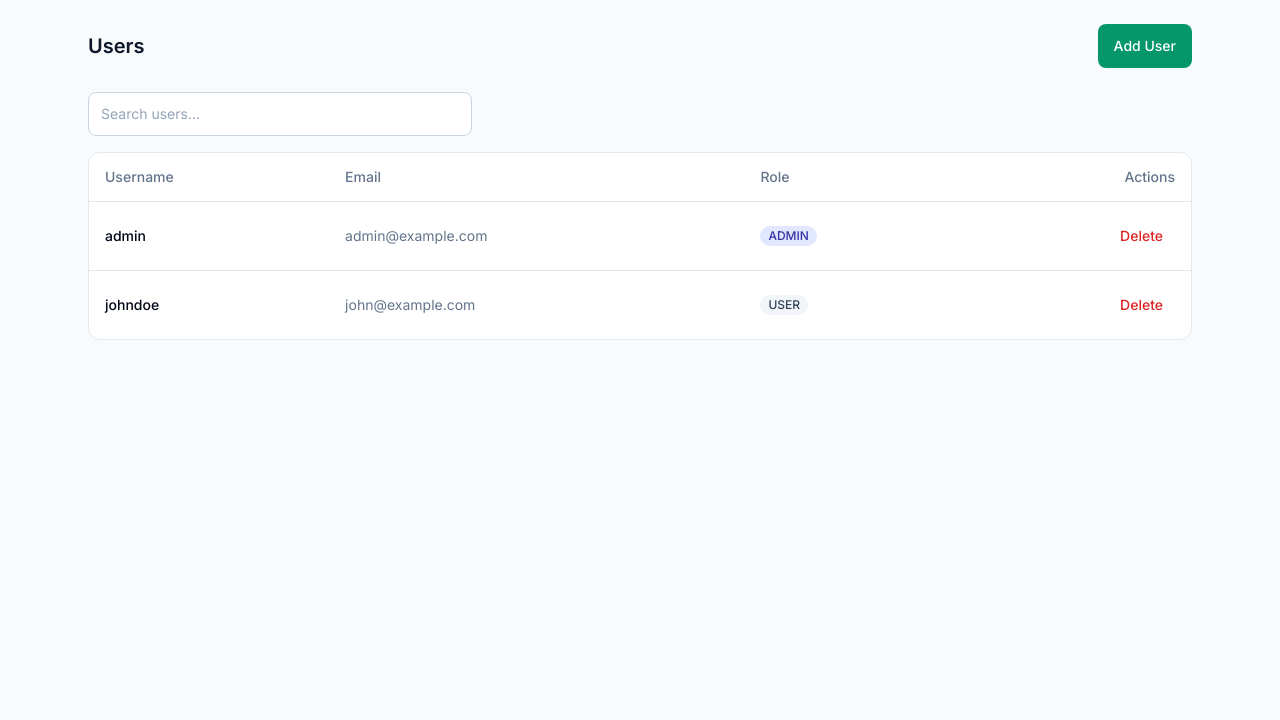
Test: UsersPage › cancels delete dialog
Click the button "Delete" in the row of "admin@example.com".
click(1142, 236)  # box [1108,218,1175,254]
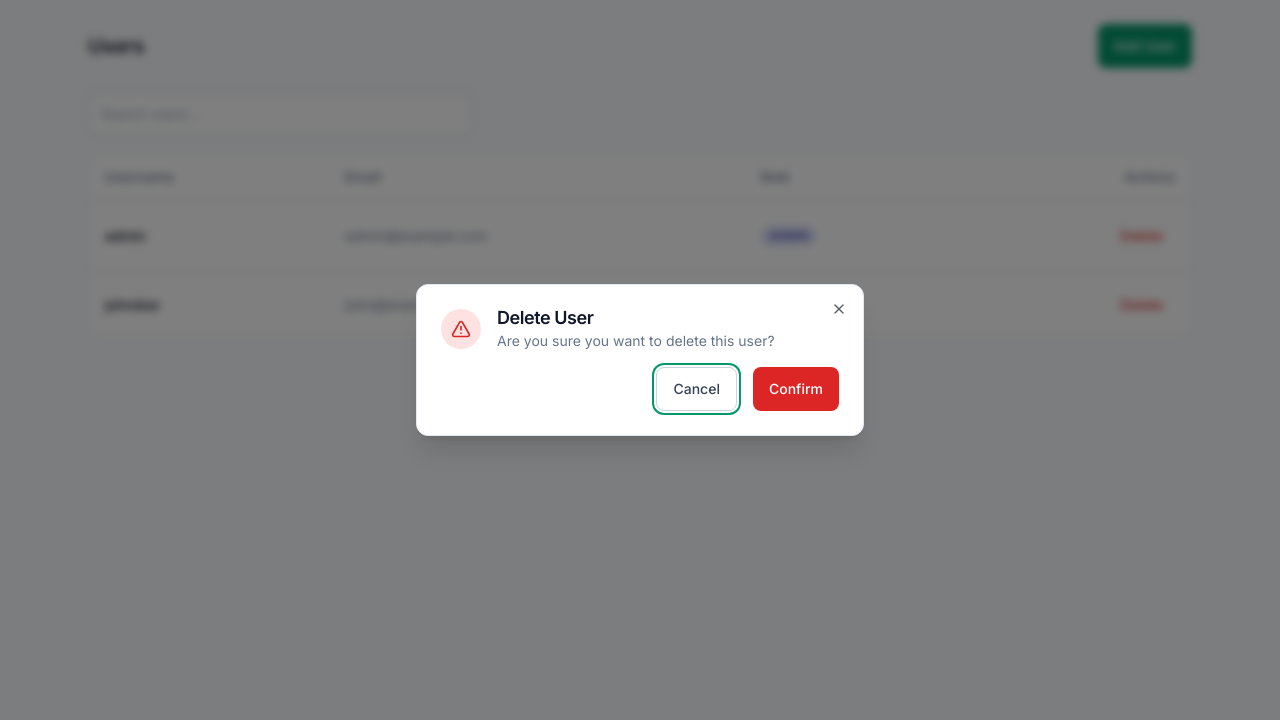
Click the button "Cancel".
click(697, 389)  # box [656,367,737,411]
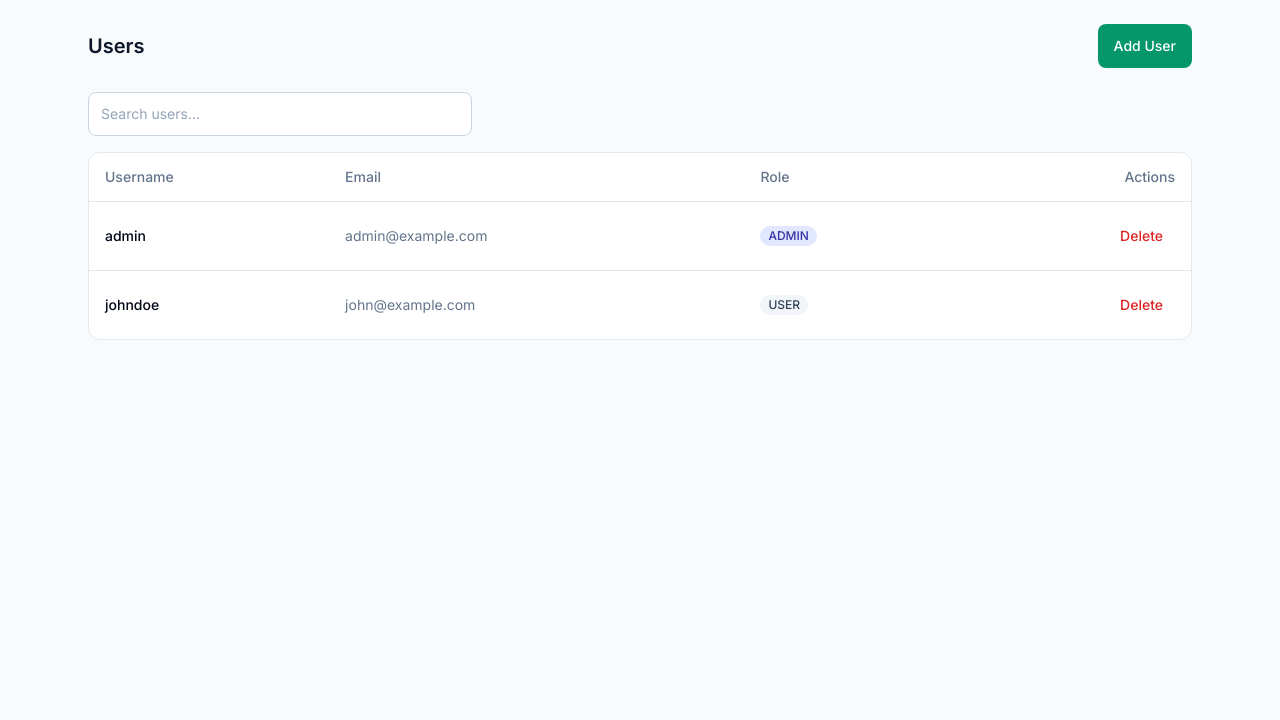
Expected: the dialog is gone
